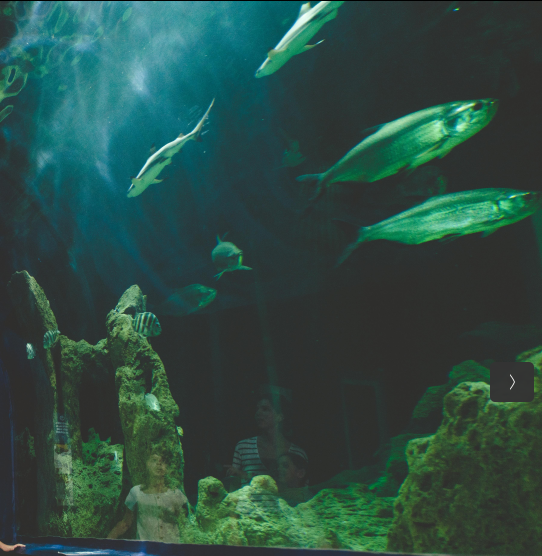fishLarge: (294, 95, 502, 217), (331, 185, 537, 270), (142, 283, 217, 319), (208, 231, 253, 279)
fishRound: (126, 314, 162, 339), (42, 327, 61, 352)
shark: (124, 99, 215, 200)
